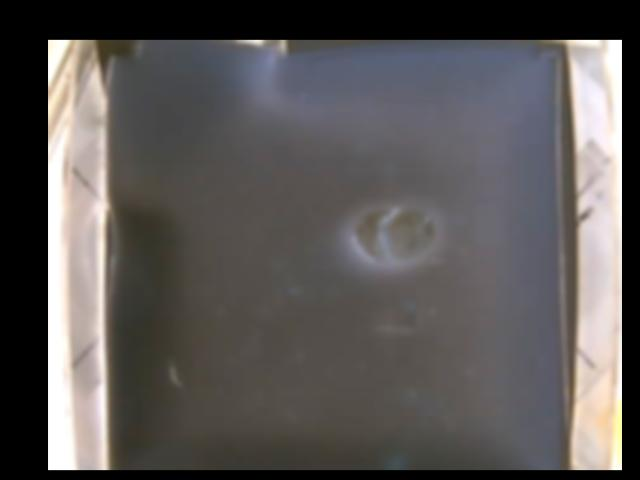Pebble: (350, 206, 436, 263)
